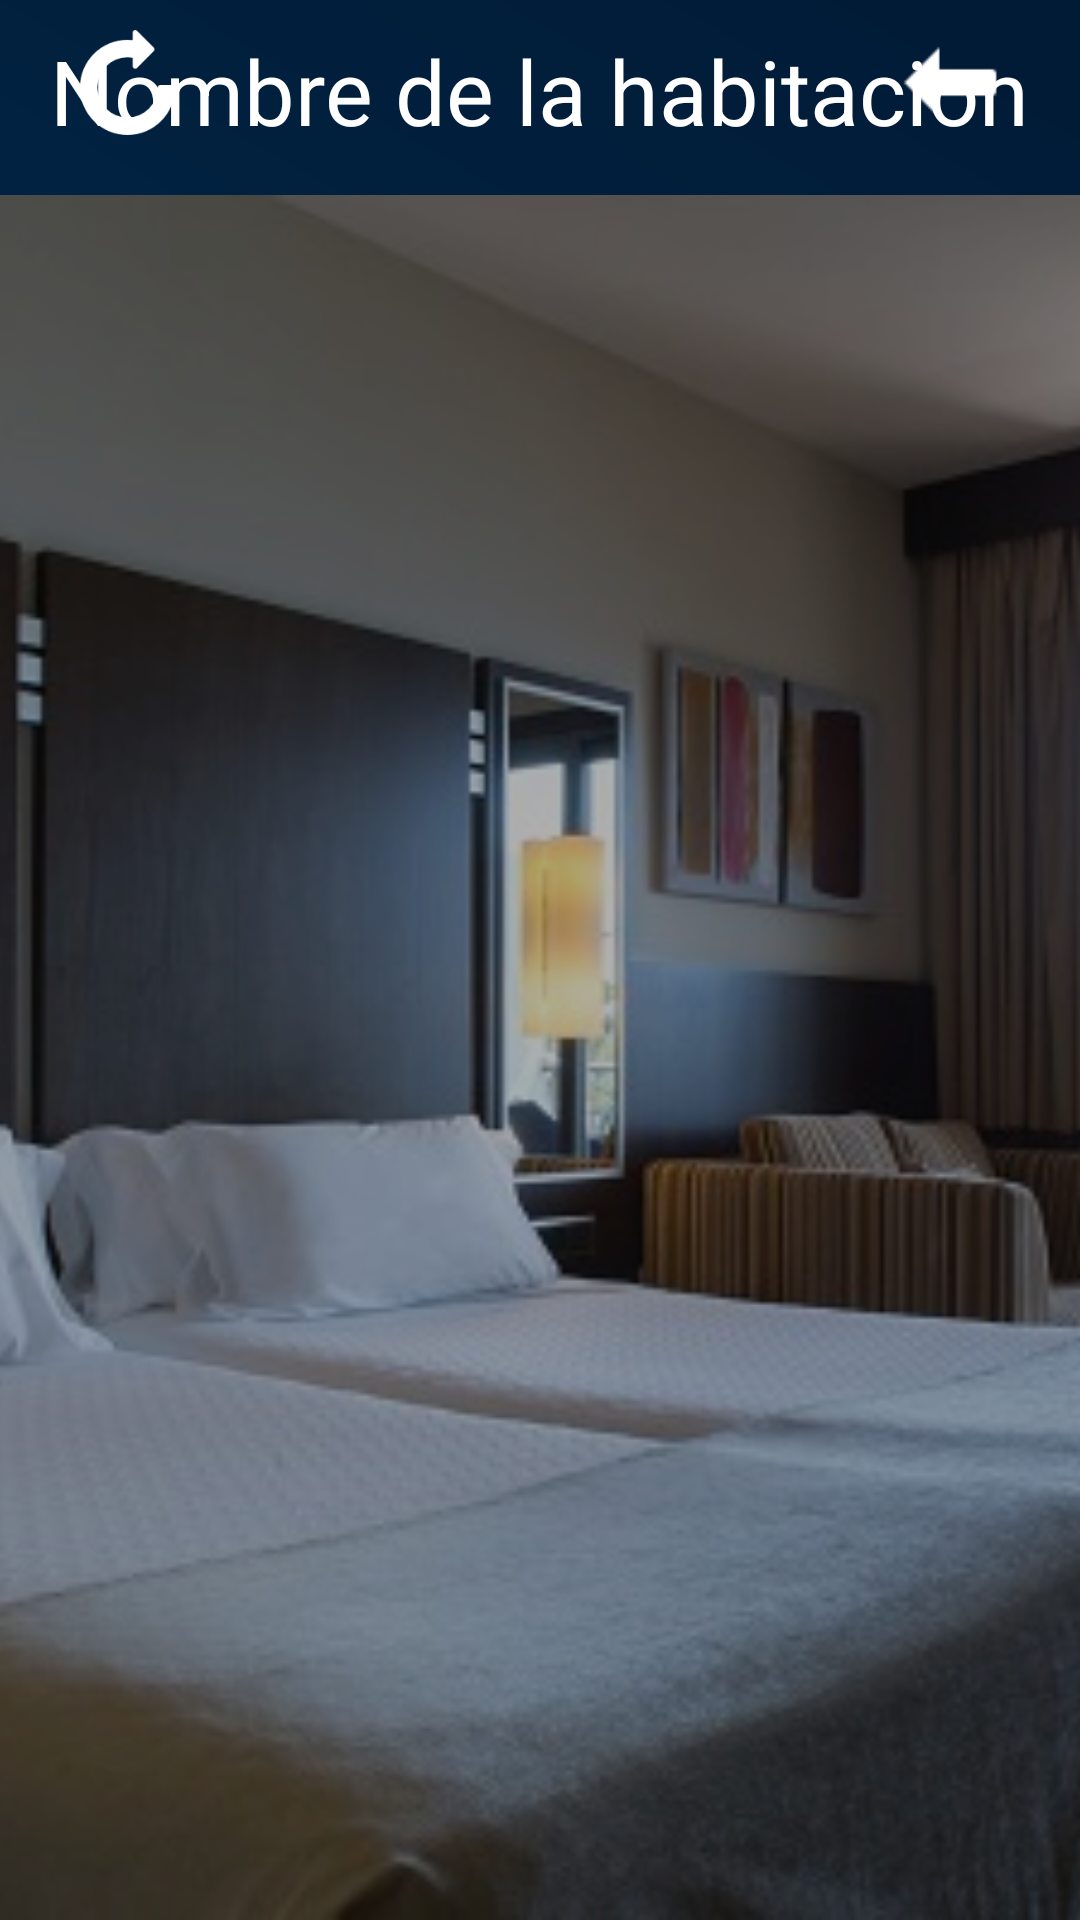

Named icons in this screenshot (1080px×1920px) and their centers, (x,y):
back: (952,87)
update: (127,82)
